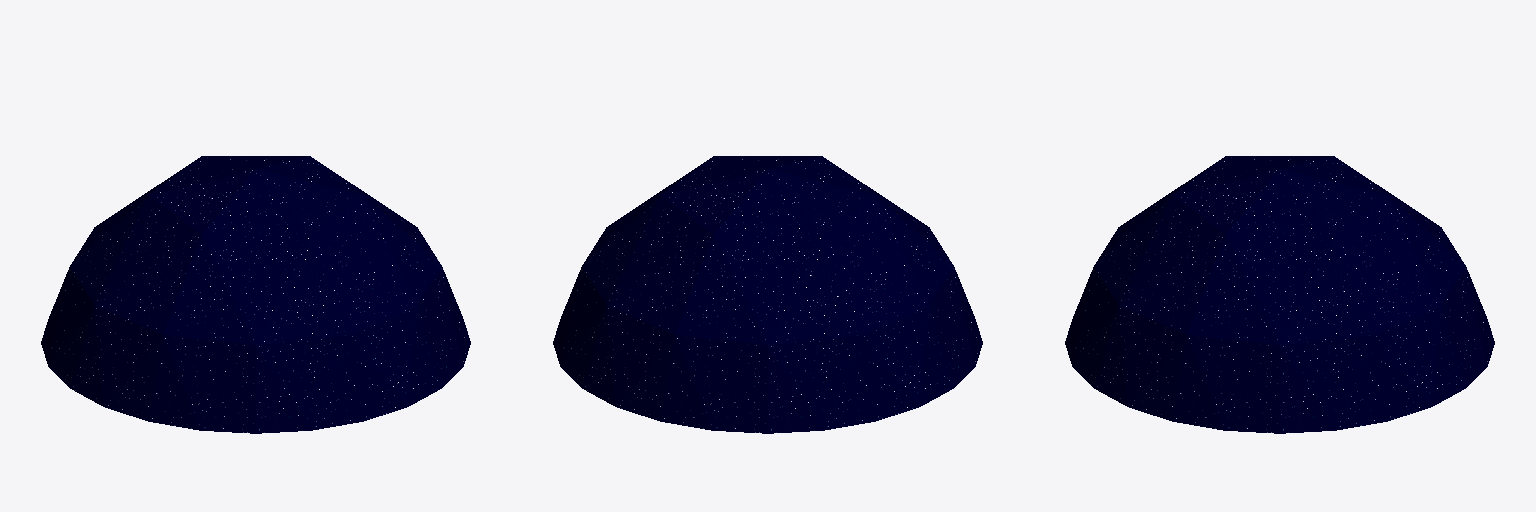
The picture shows the model from 3 angles: view 1: azimuth 30°, elevation 25°; view 2: azimuth 150°, elevation 25°; view 3: azimuth 270°, elevation 25°; orthographic projection.
Parts seen in each view (by area): view 1: polygon2; view 2: polygon2; view 3: polygon2.
Part boxes in pixels (x1,y1,x2,y2): polygon2: (41,156,470,433); polygon2: (553,156,982,433); polygon2: (1065,156,1494,433).
Size of the model in its own units: 140000 by 62425 by 140000.
2 materials, 2 textured.